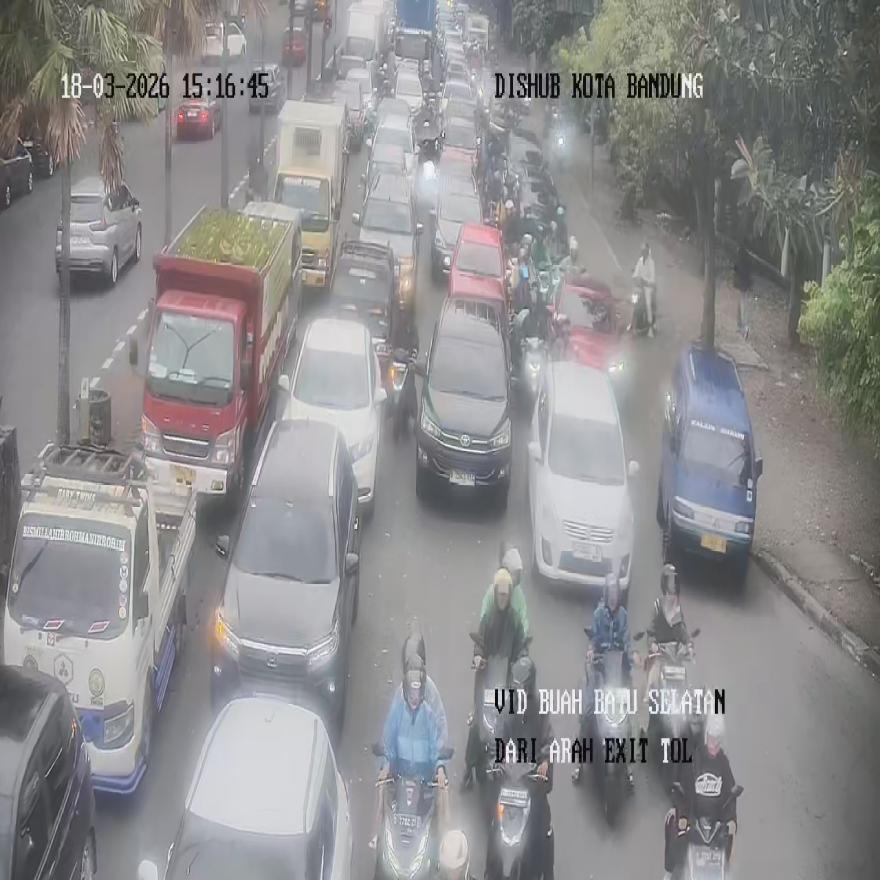Mobil: (1, 440, 197, 793), (209, 419, 361, 738), (137, 696, 352, 877), (528, 358, 640, 603), (656, 344, 762, 579), (276, 314, 386, 515), (412, 287, 514, 501), (0, 664, 98, 878), (352, 165, 422, 326), (55, 176, 142, 285)
Motor: (371, 744, 453, 880), (466, 631, 534, 787), (582, 628, 634, 823), (641, 630, 702, 790), (484, 759, 553, 879), (664, 781, 742, 880), (630, 279, 656, 336)
